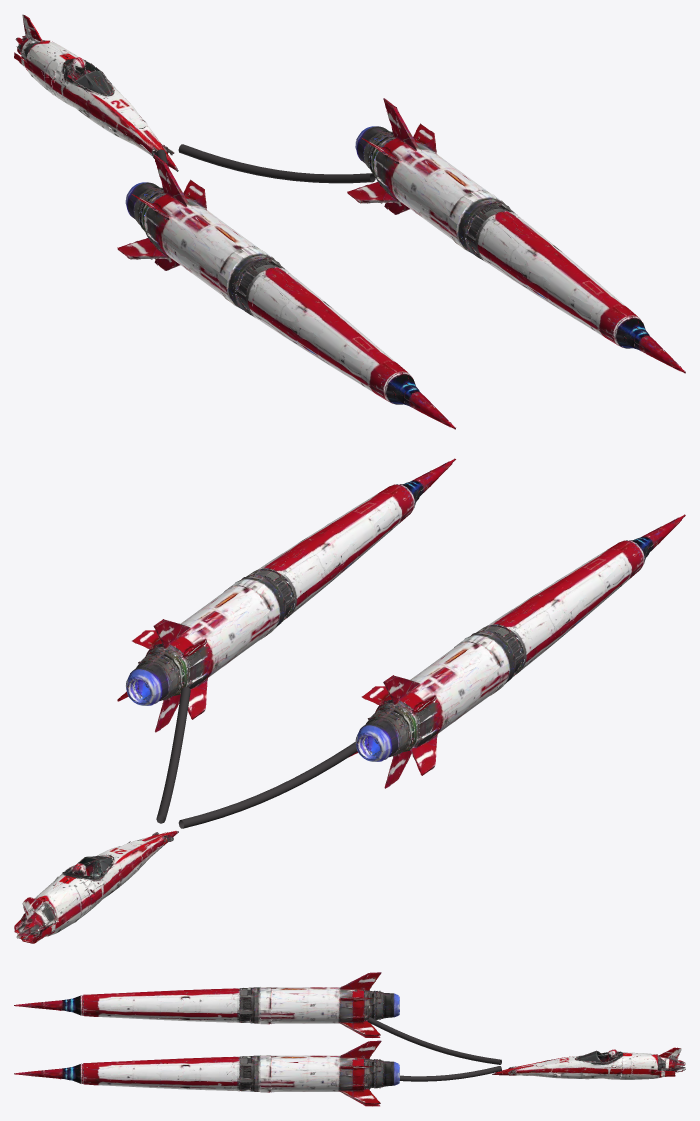
The model's file is longshot-rival.glb.
The picture shows the model from 3 angles, top to bottom: view 1: azimuth 30°, elevation 25°; view 2: azimuth 150°, elevation 25°; view 3: azimuth 270°, elevation 25°; orthographic projection. The views are drawn at different scales.
Visible parts, largest first — view 1: longshot-engine-right-body, longshot-engine-left-body, longshot-cockpit-body, longshot-tow-cables; view 2: longshot-engine-left-body, longshot-engine-right-body, longshot-cockpit-body, longshot-tow-cables; view 3: longshot-engine-right-body, longshot-engine-left-body, longshot-cockpit-body, longshot-tow-cables.
Boxes of the visible parts, x1,y1,x2,y2 form: longshot-engine-right-body: (347,98,685,373); longshot-engine-left-body: (117,154,455,429); longshot-cockpit-body: (14,14,178,171); longshot-tow-cables: (156,144,375,183); longshot-engine-left-body: (349,514,685,788); longshot-engine-right-body: (117,458,455,732); longshot-cockpit-body: (14,831,178,943); longshot-tow-cables: (156,687,357,828); longshot-engine-right-body: (14,1040,399,1106); longshot-engine-left-body: (14,972,399,1037); longshot-cockpit-body: (492,1047,685,1079); longshot-tow-cables: (367,1017,501,1081).
Size of the model in its own units: 8.24 by 3.01 by 25.6.
3 materials, 2 textured.
